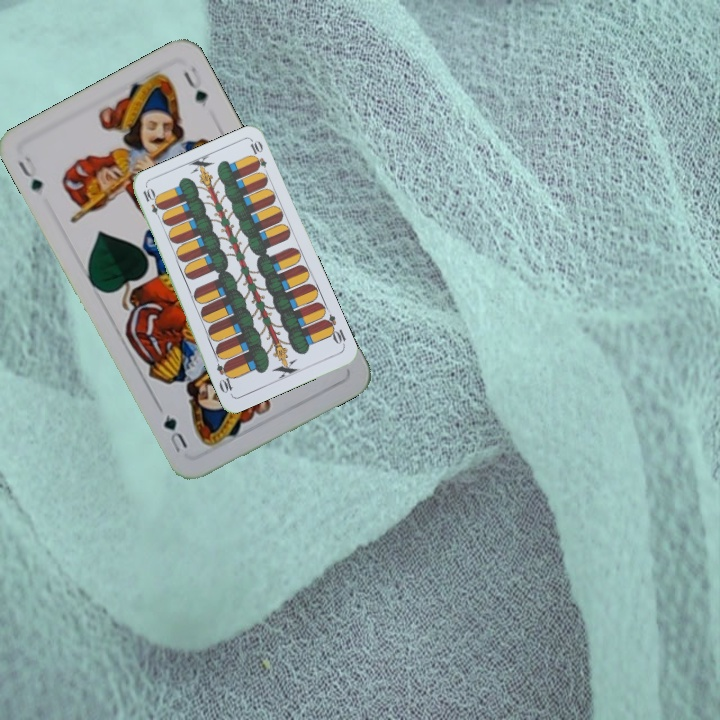E10: (319, 310, 348, 349), (139, 184, 165, 223)
GU: (13, 152, 46, 196)
